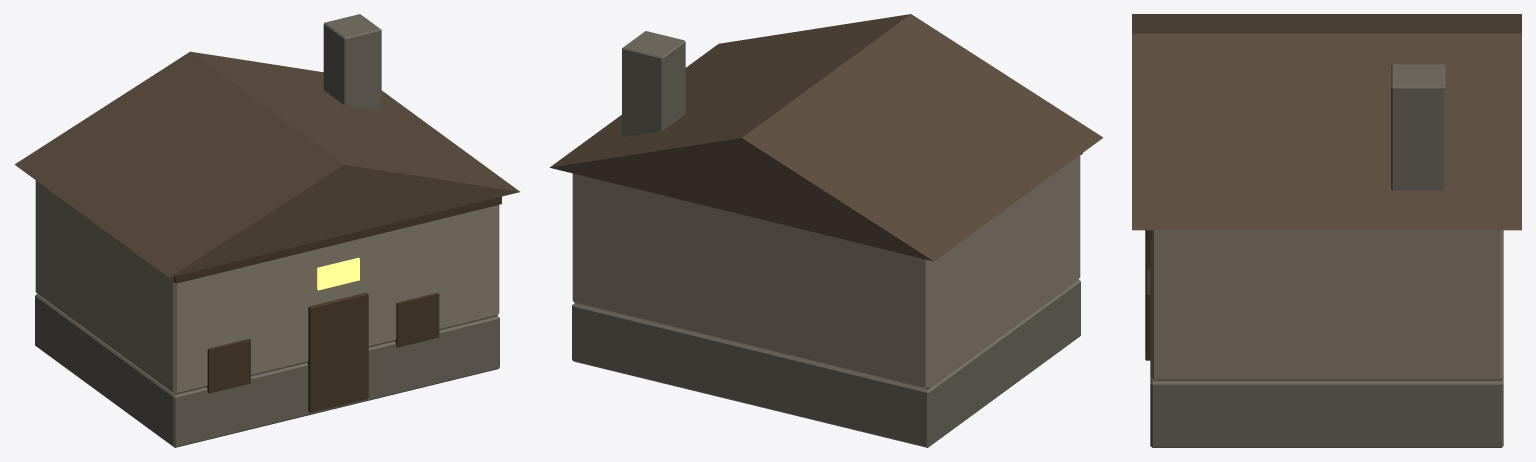
File: bld_house_b.glb
The picture shows the model from 3 angles, left to right: view 1: azimuth 30°, elevation 25°; view 2: azimuth 150°, elevation 25°; view 3: azimuth 270°, elevation 25°; orthographic projection. The views are drawn at different scales.
Visible parts, largest first — view 1: bld_house_b; view 2: bld_house_b; view 3: bld_house_b.
Boxes of the visible parts, left/top/right/bottom form: bld_house_b: left=14, top=14, right=519, bottom=447; bld_house_b: left=550, top=14, right=1103, bottom=447; bld_house_b: left=1132, top=14, right=1521, bottom=447.
Size of the model in its own units: 8.4 by 6.3 by 6.4.
